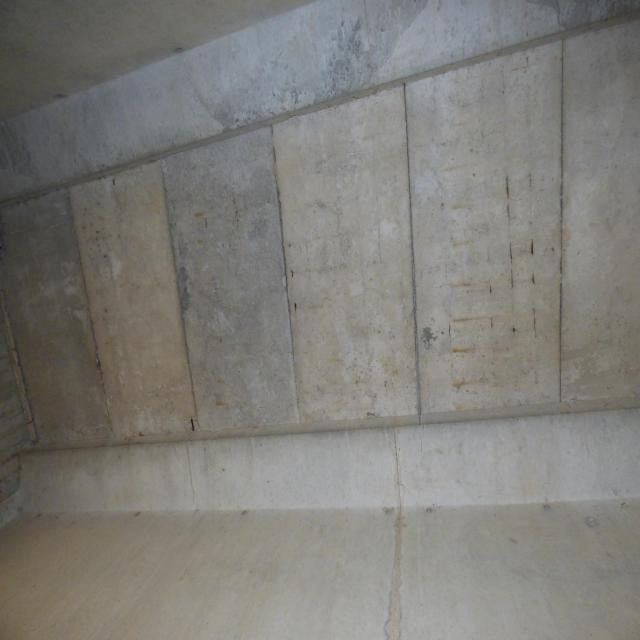vertical crack: (186, 441, 196, 503)
